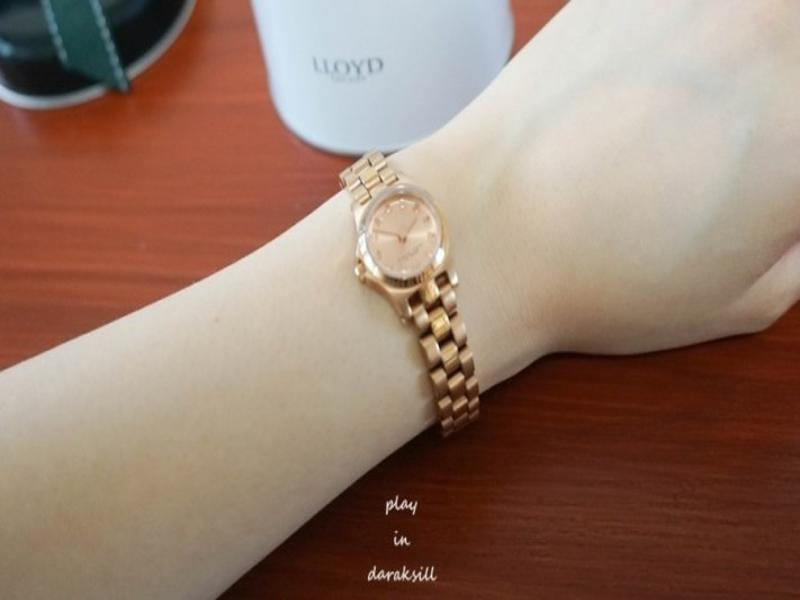watch: (336, 146, 481, 437)
